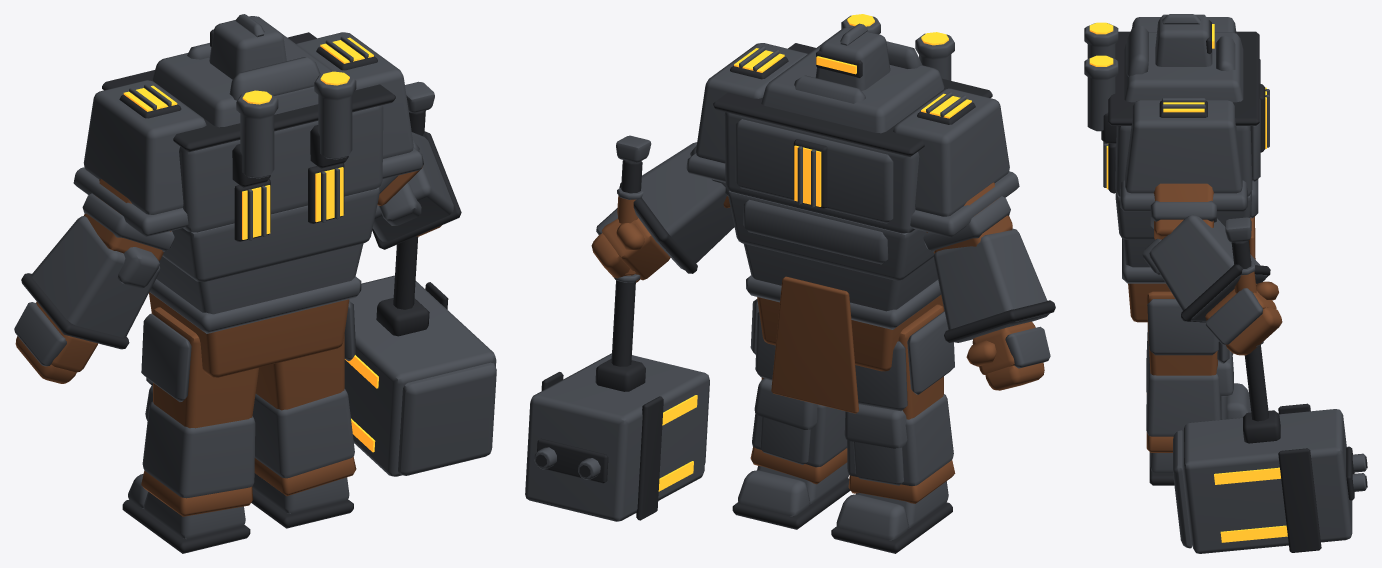
Rendered from malleus_posed.glb.
3 views of the same model, side by side, from view 1: azimuth 30°, elevation 25°; view 2: azimuth 150°, elevation 25°; view 3: azimuth 270°, elevation 25° (orthographic). The views are drawn at different scales.
Visible parts, largest first — view 1: malleus_posed; view 2: malleus_posed; view 3: malleus_posed.
Part boxes in pixels (x1,y1,x2,y2): malleus_posed: (14,14,496,553); malleus_posed: (525,14,1055,553); malleus_posed: (1084,14,1367,553).
Bounding box in the file's own units: 2.02 × 2.1 × 1.24.
